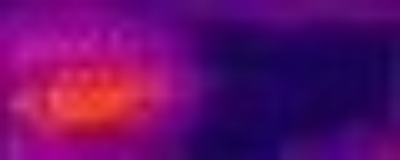Shadow: (170, 1, 400, 160)
